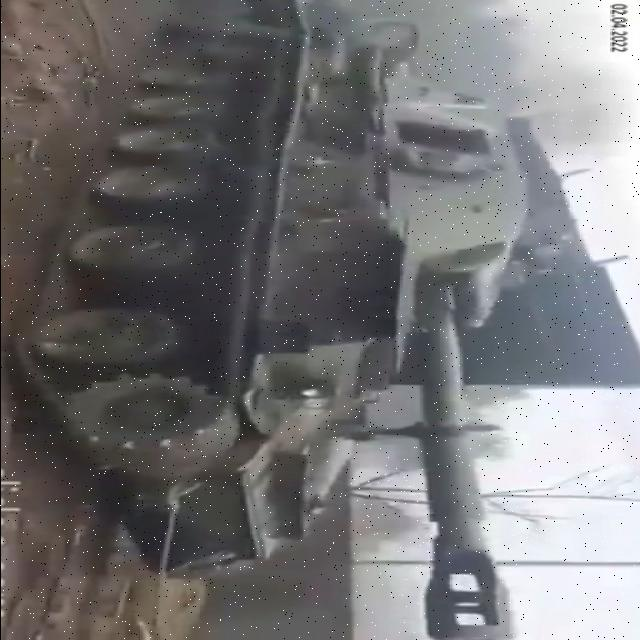ART: (11, 7, 538, 638)
